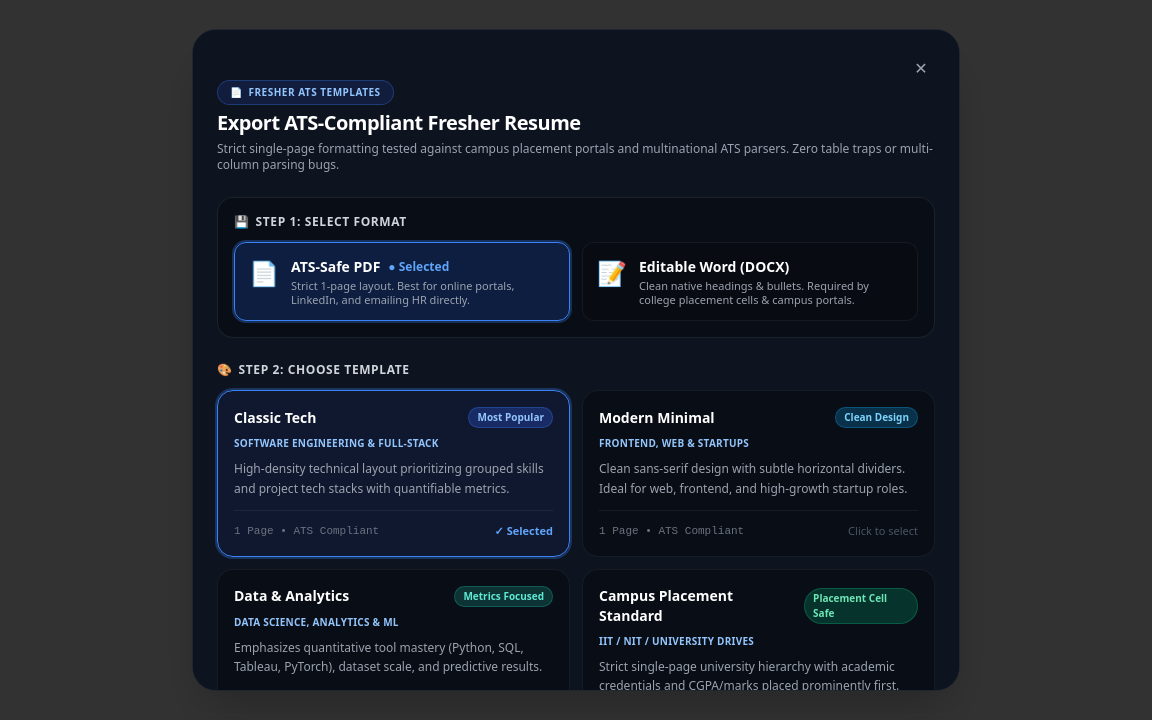
Test: ExportResumeModal Component › selects a different template when clicked
The width and height of the screenshot is (1152, 720).
# Click Modern Minimal template
What coordinates should you click on to do the following:
click the text "Modern Minimal Clean Design"
I would click on:
 (657, 417)
Its box is [599,407,918,428].
(page scrolled)
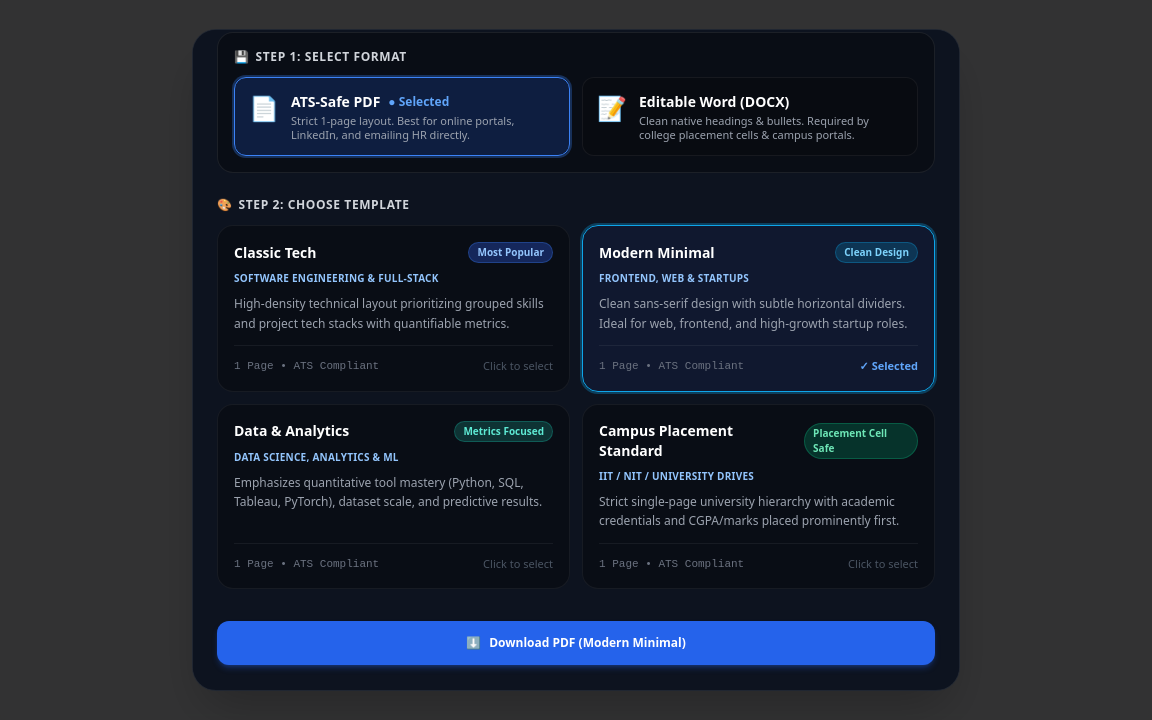
Check: the button "⬇️ Download PDF (Modern Minimal)" is shown, box [217,621,935,665]
